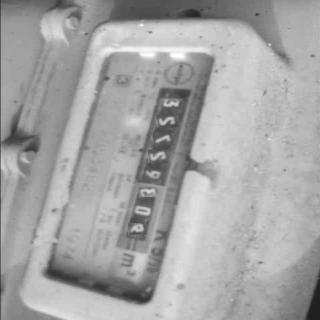1: (133, 204, 153, 216)
3: (156, 116, 178, 129), (148, 150, 168, 163)
4: (160, 97, 185, 110), (139, 188, 158, 197)
8: (153, 133, 174, 145)
:: (144, 168, 163, 180), (128, 224, 146, 235)
